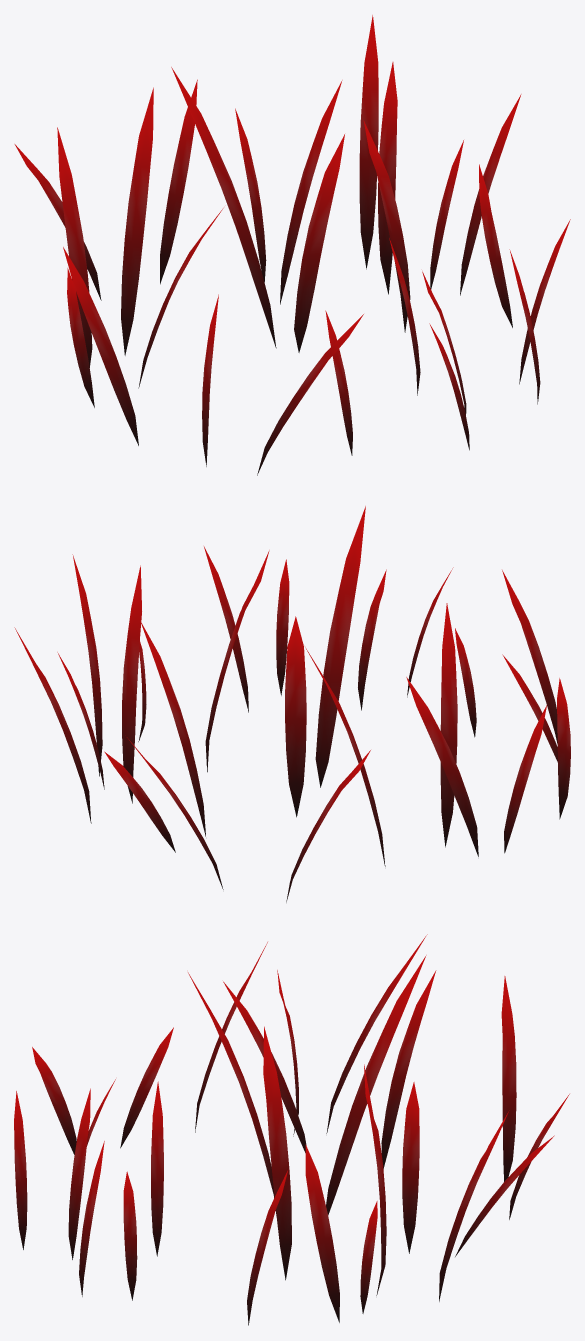
File: Grass.fbx
3 views of the same model, one above another, from view 1: azimuth 30°, elevation 25°; view 2: azimuth 150°, elevation 25°; view 3: azimuth 270°, elevation 25° (orthographic). The views are drawn at different scales.
Parts seen in each view (by area): view 1: Grass; view 2: Grass; view 3: Grass.
Part boxes in pixels (<box>): Grass: <box>14,15,570,475</box>; Grass: <box>14,506,570,902</box>; Grass: <box>14,934,569,1325</box>.
Bounding box in the file's own units: 1.89 × 1.01 × 1.95.
